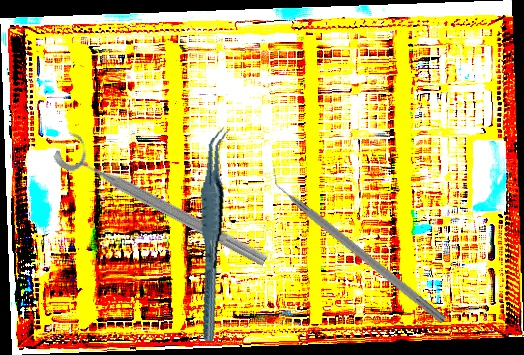Chopper: (263, 163, 455, 325)
Fixation Ring: (50, 127, 278, 273)
Tissue Forceps: (176, 124, 249, 344)
